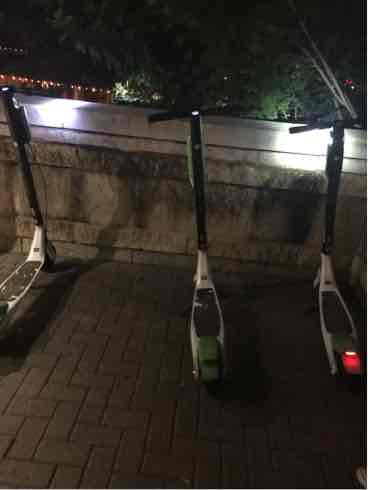scooter: (144, 99, 245, 395)
